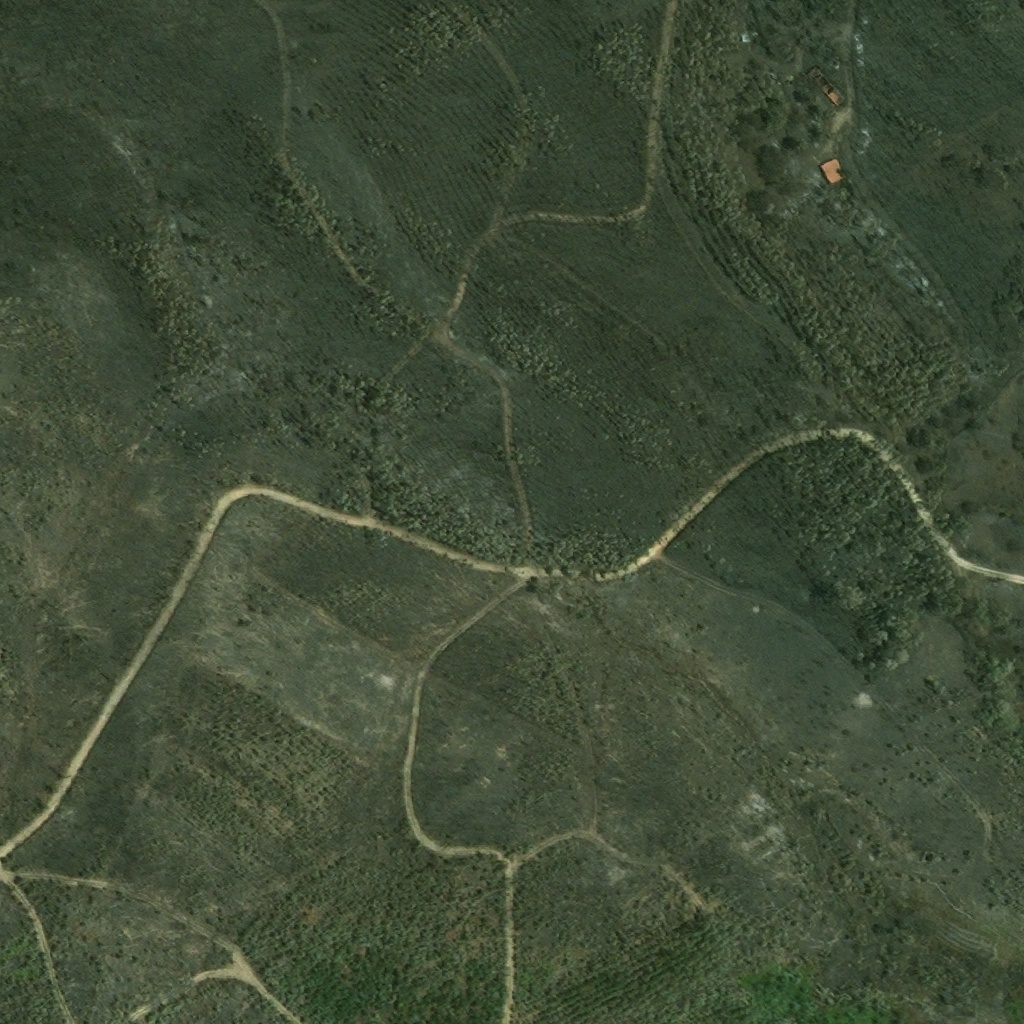0 no-damage: (815, 150, 844, 175)
2 major-damage: (734, 27, 752, 48)
3 destroyed: (817, 74, 845, 106)
